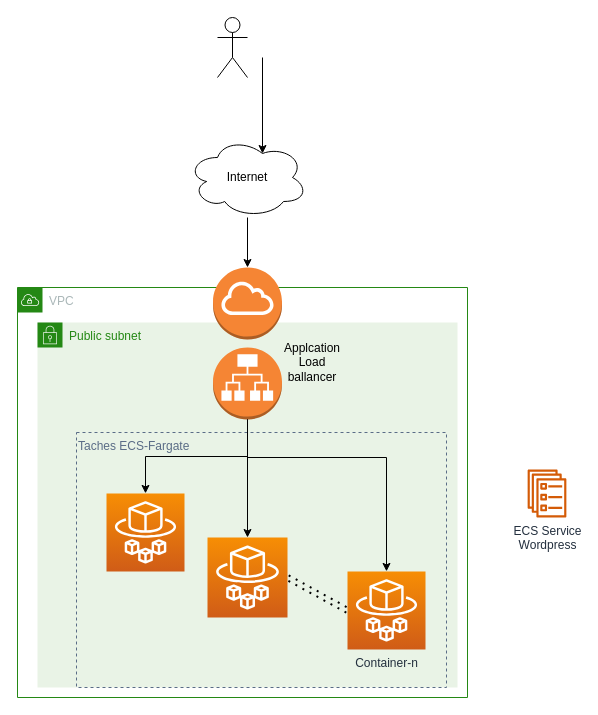
Image size: 598x715. Some labels were removed from this diagram. The centre of each missing label's shape, as x and y in pixels:
"Container1" goes at point 145,531.
"Container2" goes at point 247,577.
"Utilsateurs" goes at point 232,47.
